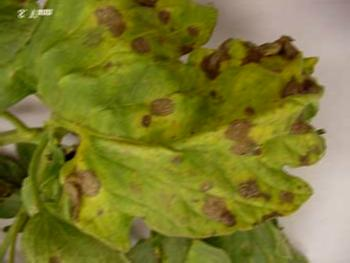Tomato Early blight leaf: (35, 0, 324, 245)
